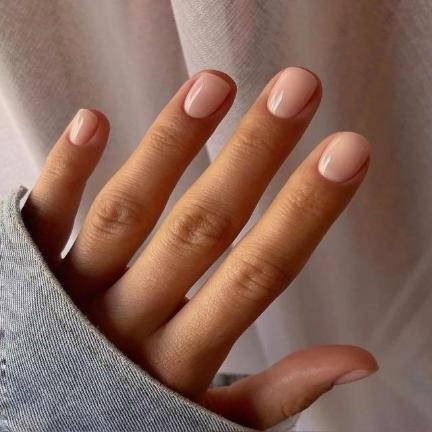Nail: (318, 132, 370, 182), (267, 68, 316, 119), (184, 73, 231, 118), (69, 109, 99, 145), (333, 369, 376, 385)
